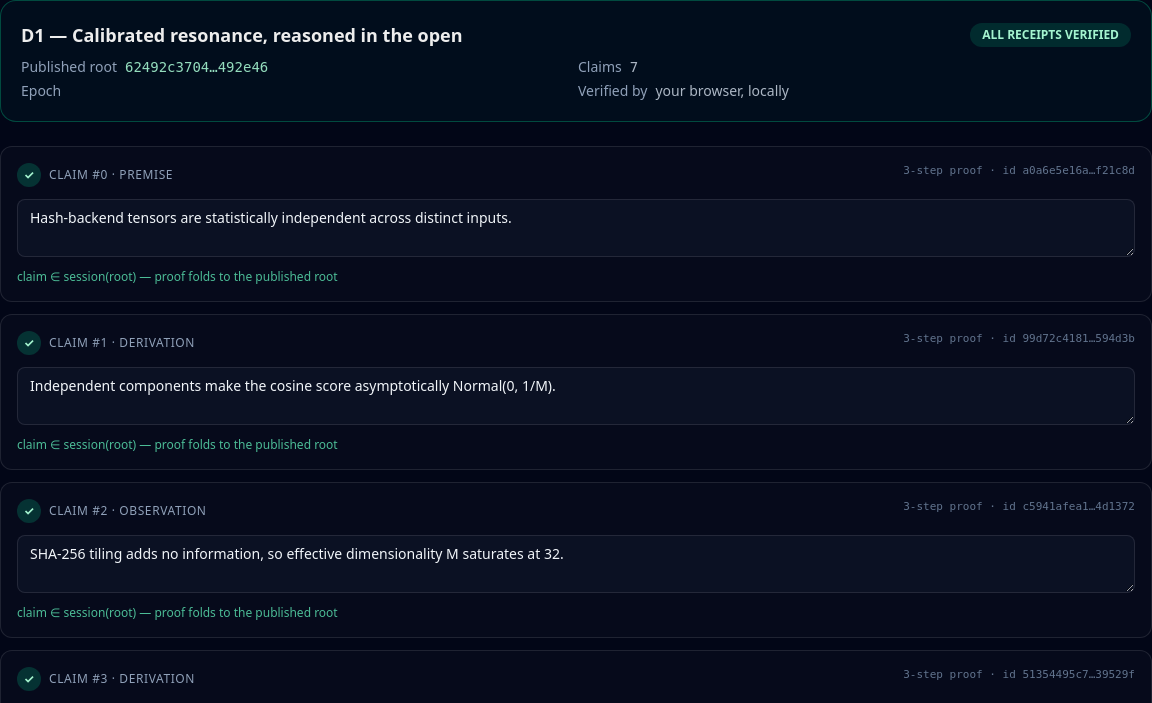
Test case: ReceiptVerifier › breaks the proof when the reader edits a claim (tamper-evident in-browser)
The width and height of the screenshot is (1152, 703).
Expected: the text "ALL RECEIPTS VERIFIED" is shown, [970,23,1131,47]
Replace the text in the text box below "· premise" with "forged claim text the root never witnessed" at (576, 228), box [17,199,1135,257]
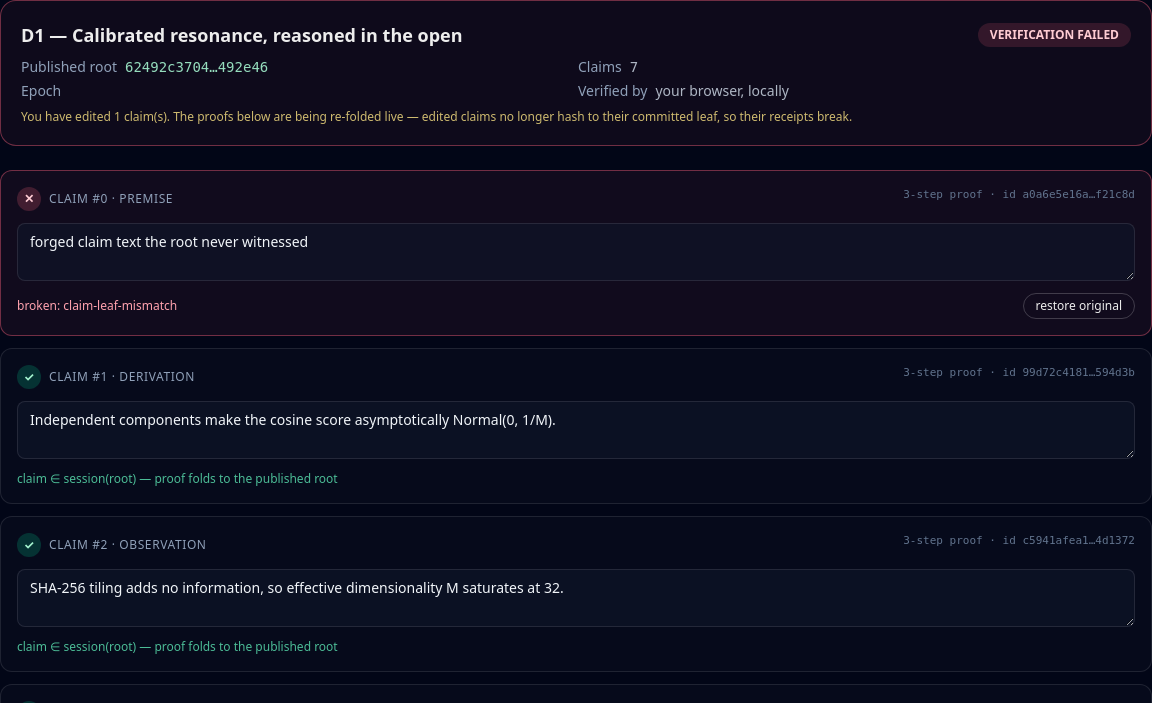
Now the text "VERIFICATION FAILED" is shown, box [978,23,1131,47]
Now the text "broken: claim-leaf-mismatch" is shown, box [17,298,177,314]
// Restoring the original re-verifies — the proof folds again.
Click the button "restore original".
click(1079, 306)  # box [1022,293,1135,319]
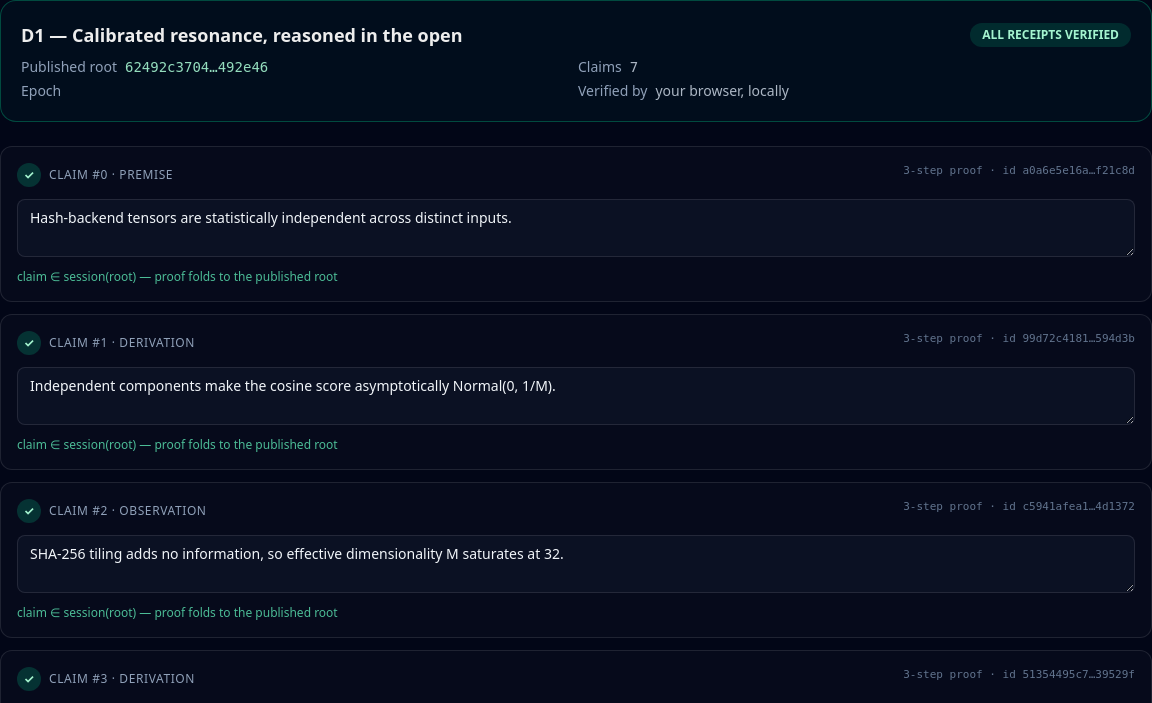
Now the text "ALL RECEIPTS VERIFIED" is shown, box [970,23,1131,47]
